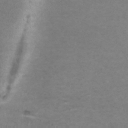finishing roll printing: (2, 13, 32, 101)
